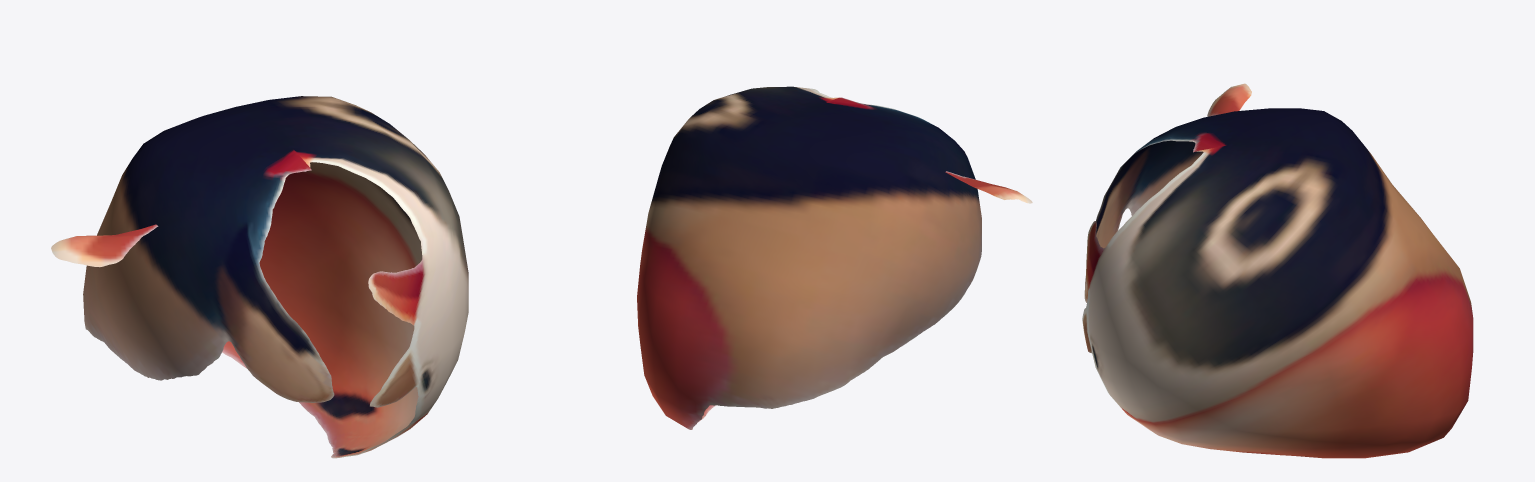
The model's file is IG_Helmat_Cow.fbx.
The picture shows the model from 3 angles, left to right: view 1: azimuth 30°, elevation 25°; view 2: azimuth 150°, elevation 25°; view 3: azimuth 270°, elevation 25°; orthographic projection. The views are drawn at different scales.
Visible parts, largest first — view 1: cow; view 2: cow; view 3: cow.
Part boxes in pixels (x1,y1,x2,y2): cow: (51,96,468,458); cow: (637,86,1032,429); cow: (1082,83,1473,458).
Bounding box in the file's own units: 0.9931 × 0.73 × 0.7631.
